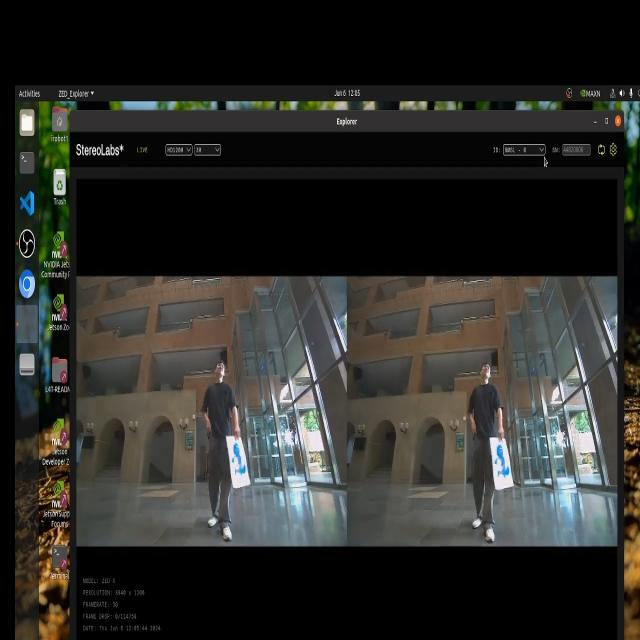blue: (226, 432, 258, 478), (491, 439, 516, 484)
